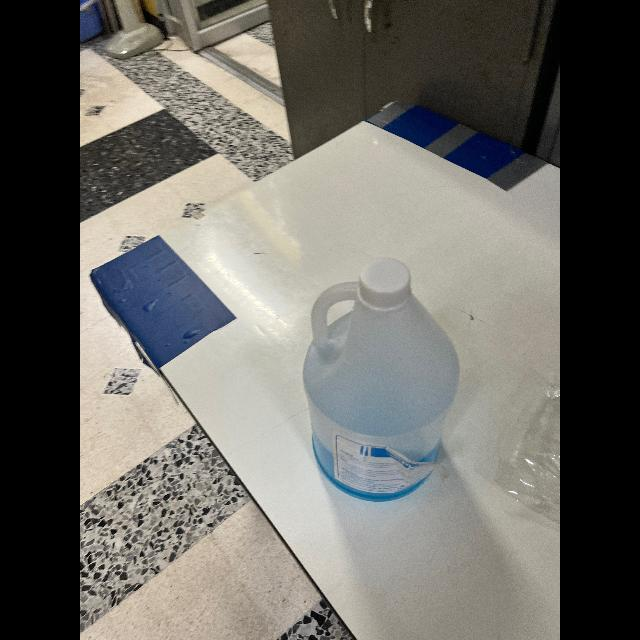chemical_plastic_gallon: (306, 259, 456, 503)
